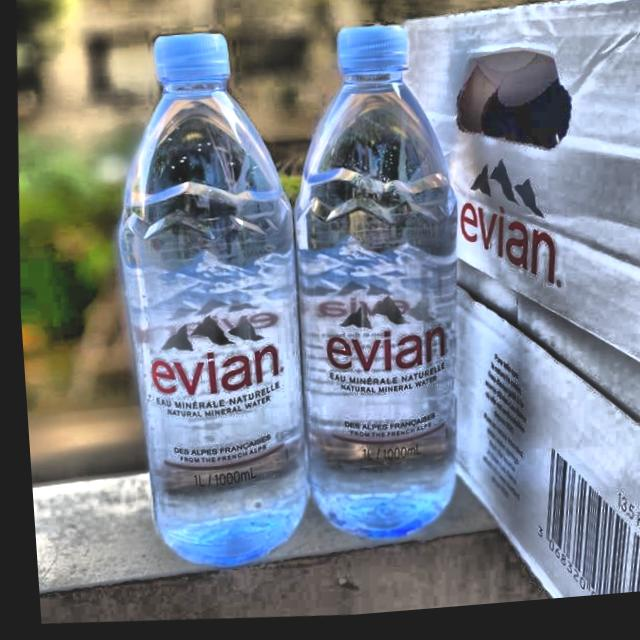Bottles: (244, 0, 532, 584), (60, 0, 335, 597)
